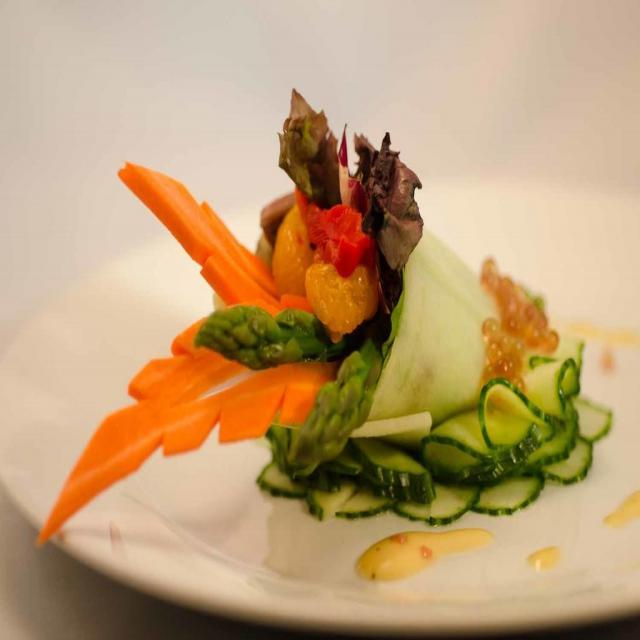Zucchini: (352, 346, 607, 544)
